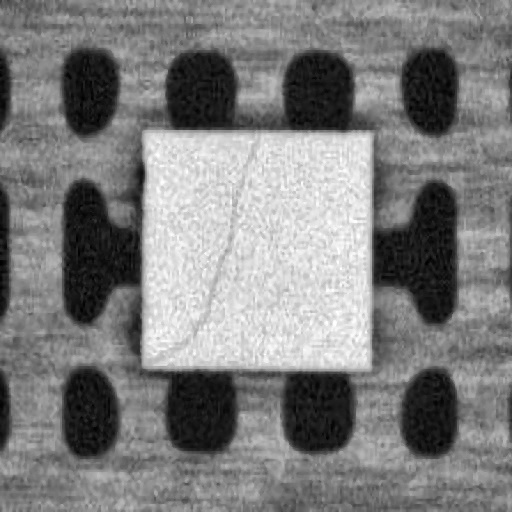DIE_CRACK: (147, 138, 257, 363)
